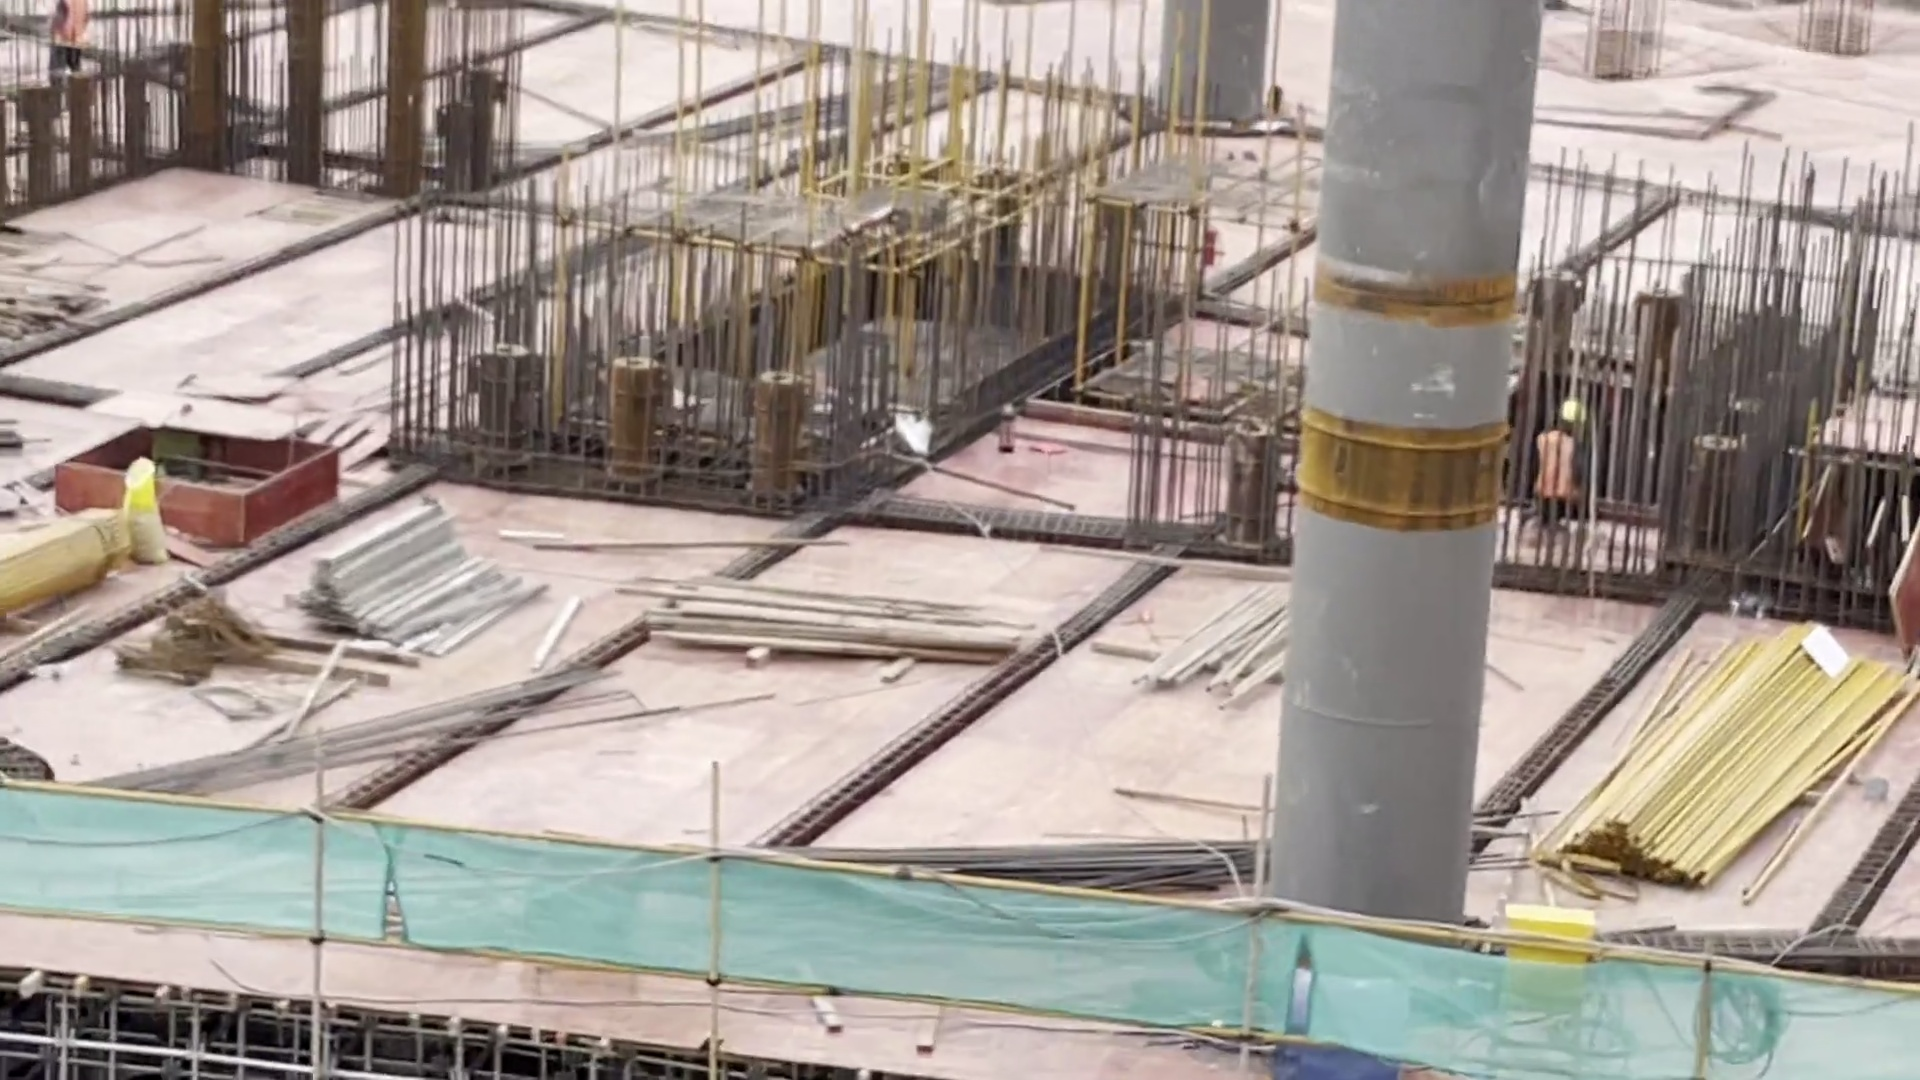person: (1529, 401, 1588, 508)
wood: (622, 572, 1040, 681)
